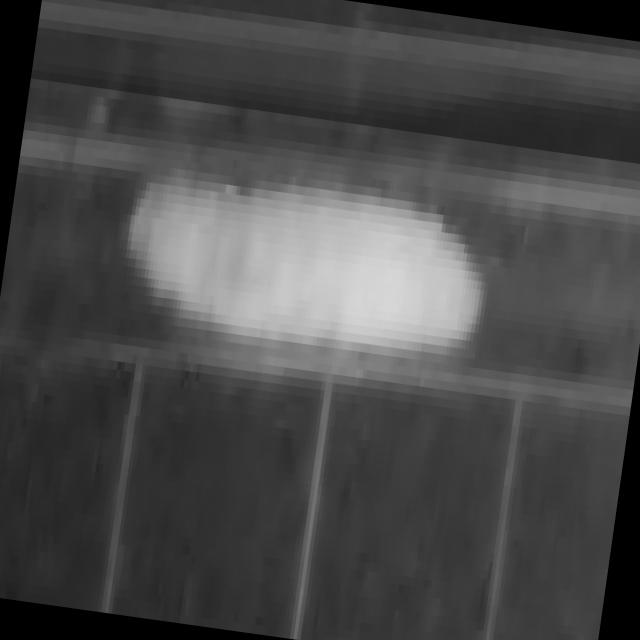larva: (110, 130, 504, 384)
